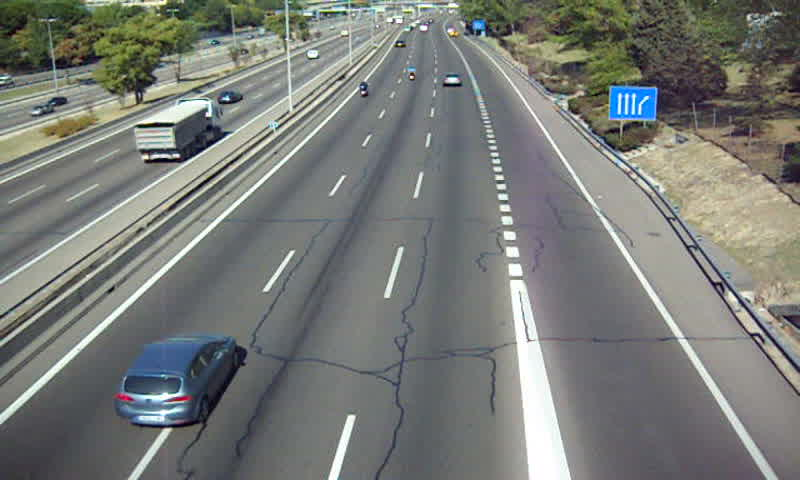car: (116, 334, 234, 426), (441, 72, 463, 86), (394, 41, 406, 50)
motorcycle: (358, 82, 370, 100), (406, 68, 416, 83)
